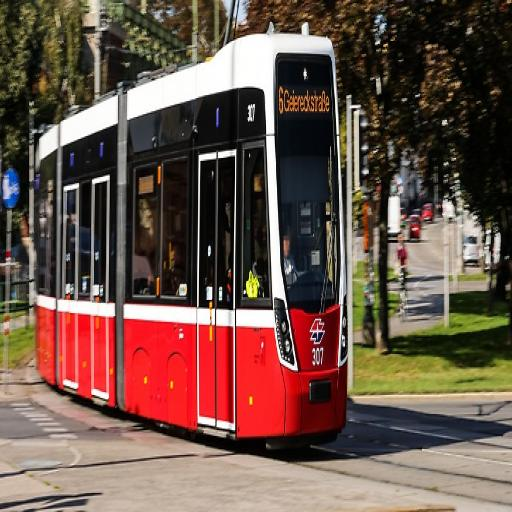Flexity: (31, 26, 352, 450)
